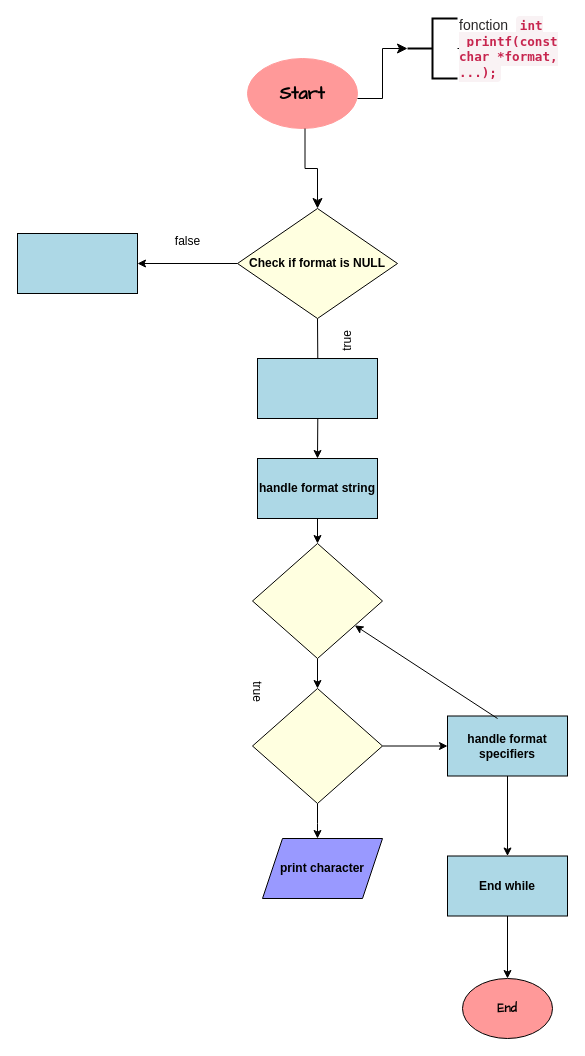
This 585x1056 diagram has some shape labels left out. The centre of each missing label's shape, as x and y in pixels:
"check if format[i] is '%'" belongs at point 317,746.
"initialize va_list args" belongs at point 317,388.
"Return -1 (error)" belongs at point 77,263.
"While (format[i] != '\0'" belongs at point 317,600.
